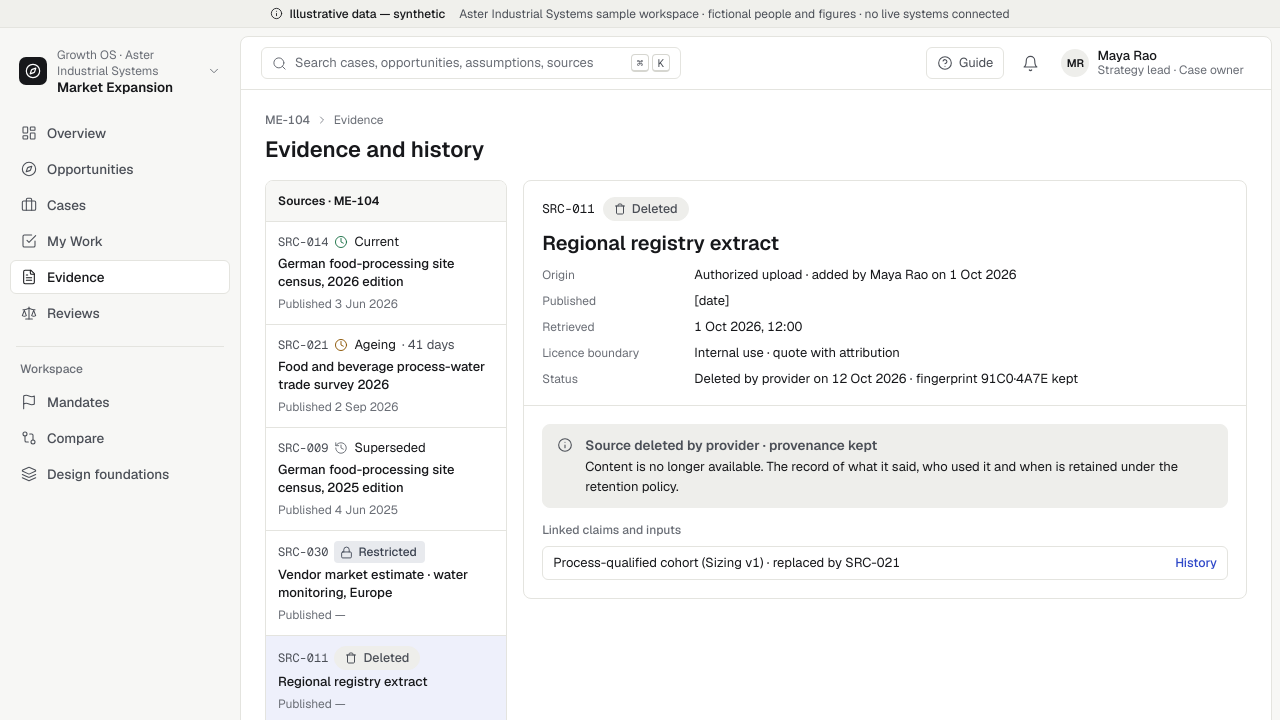
Test case: S13 Evidence › deleted source keeps provenance; superseded edition links to the current one
Expected: the text "Source deleted by provider · provenance kept" is shown, left=585, top=436, right=877, bottom=454
Expected: the text "fingerprint 91C0·4A7E kept" is shown, left=694, top=370, right=1078, bottom=387
What coordinates should you click on to do the following:
click the link "SRC-009"
I would click on:
 (386, 480)
Its box is left=266, top=428, right=506, bottom=531.
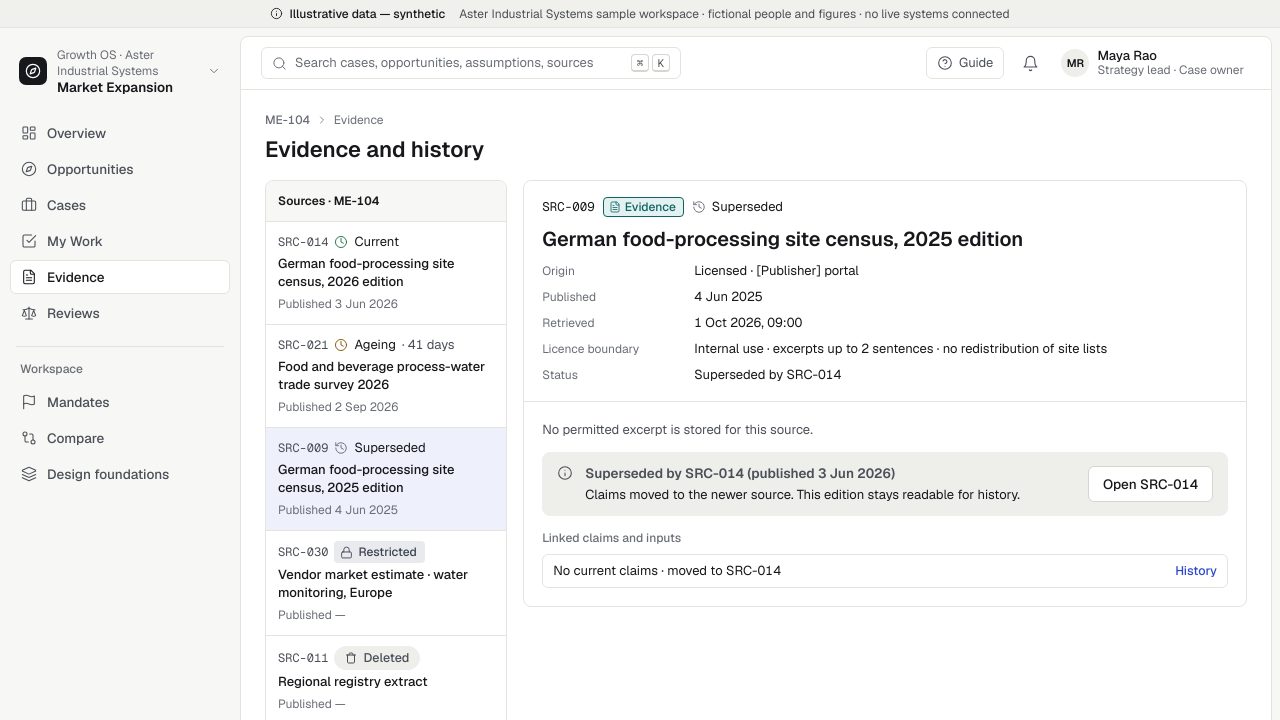
Expected: the text "Superseded by SRC-014" is shown, left=694, top=366, right=841, bottom=383
Expected: the link "Open SRC-014" is shown, left=1088, top=466, right=1213, bottom=502
